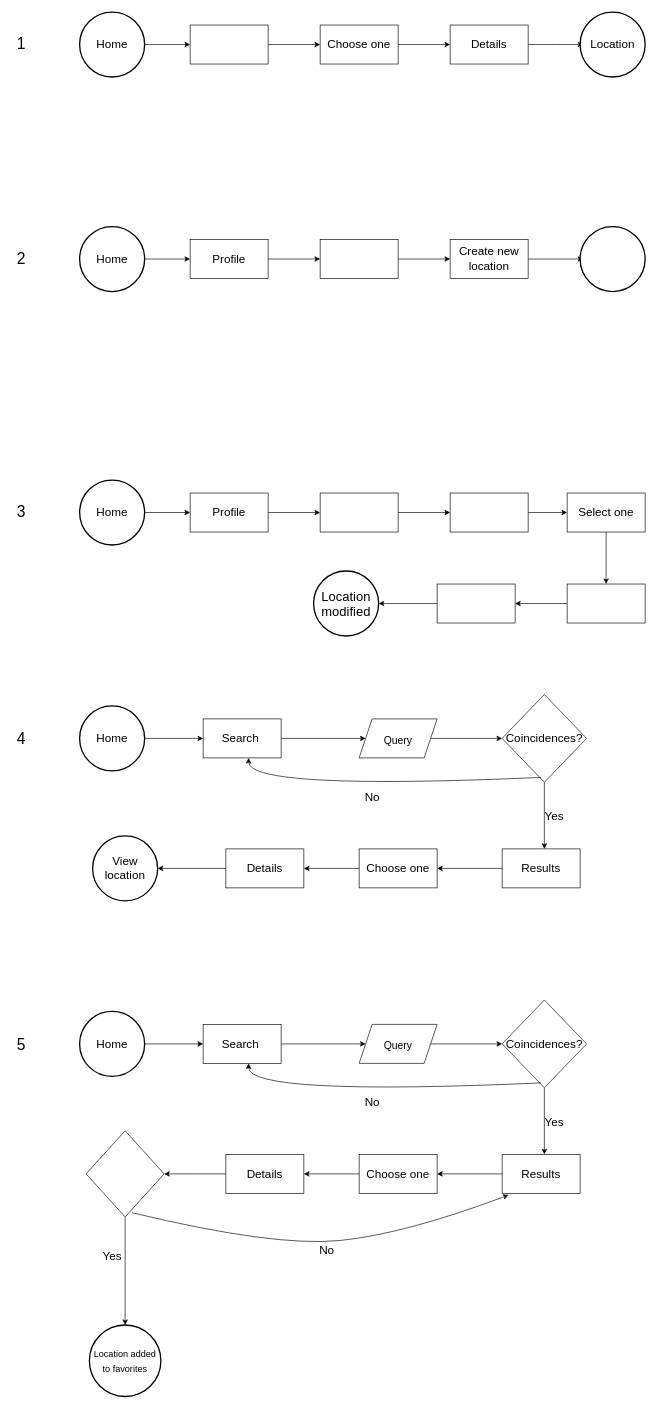
Image size: 657x1408. Some labels were removed from this diagram. The shapes that lost their labels are listed below. From the top down, each one's centre as x and y in pixels, then its label:
the point at 228,44: List all locations
the point at 358,259: My places
the point at 612,259: Publish location
the point at 358,512: My locations
the point at 488,512: List locations
the point at 475,603: Save changes
the point at 605,603: Modify it
the point at 124,1173: save as a favorite?
